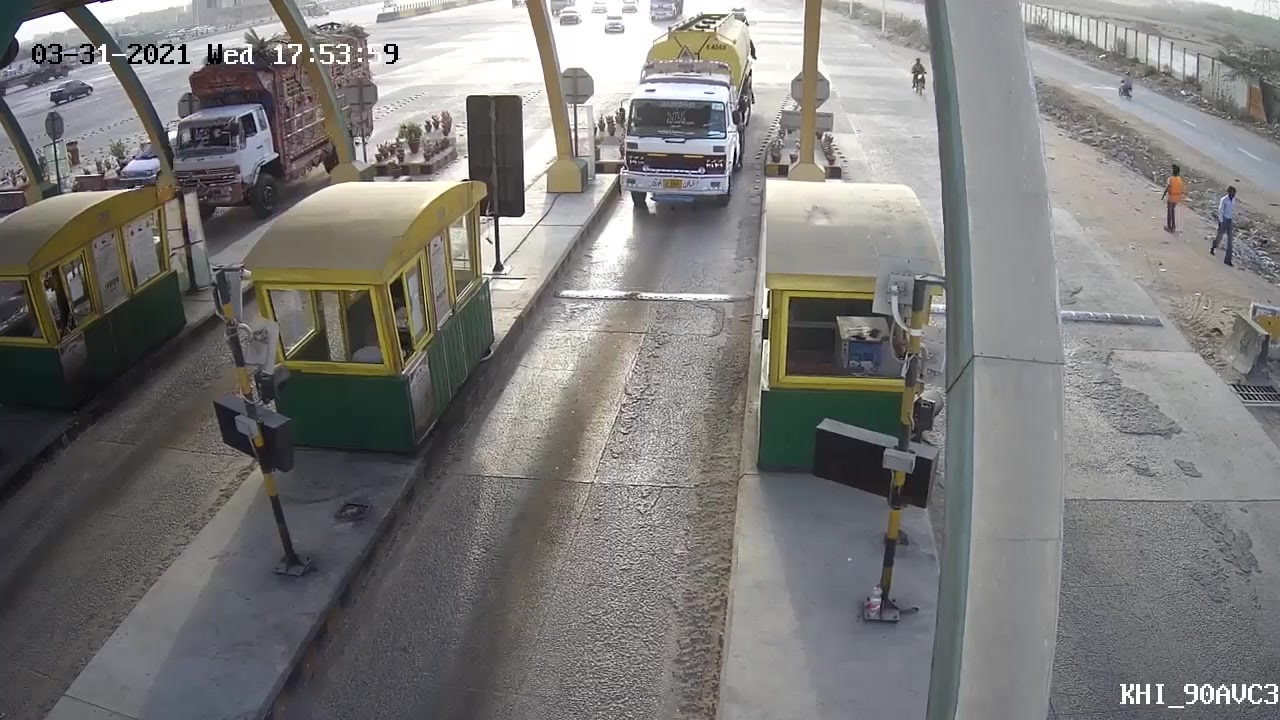F5: (607, 4, 759, 213)
